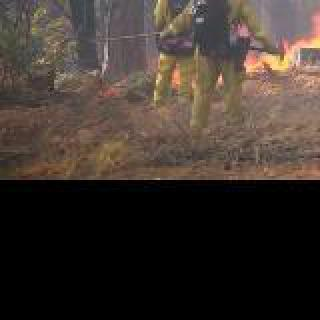fire: (250, 12, 320, 76), (174, 68, 180, 84)
